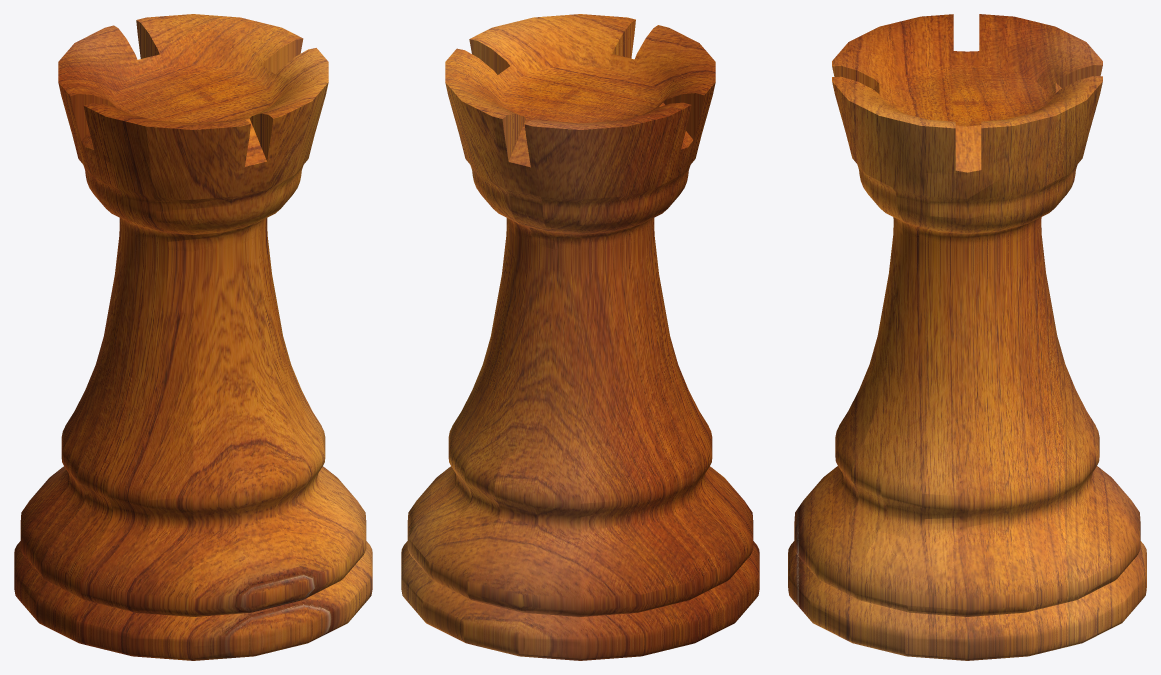
The model's file is branco-torre.obj.
The picture shows the model from 3 angles, left to right: view 1: azimuth 30°, elevation 25°; view 2: azimuth 150°, elevation 25°; view 3: azimuth 270°, elevation 25°; orthographic projection.
Visible parts, largest first — view 1: TORRE3; view 2: TORRE3; view 3: TORRE3.
Boxes of the visible parts, x1=… form: TORRE3: x1=14, y1=14, x2=372, y2=660; TORRE3: x1=401, y1=14, x2=759, y2=660; TORRE3: x1=788, y1=14, x2=1146, y2=660.
Size of the model in its own units: 166 by 260 by 163.
Materials: 1 (1 with a texture image).
